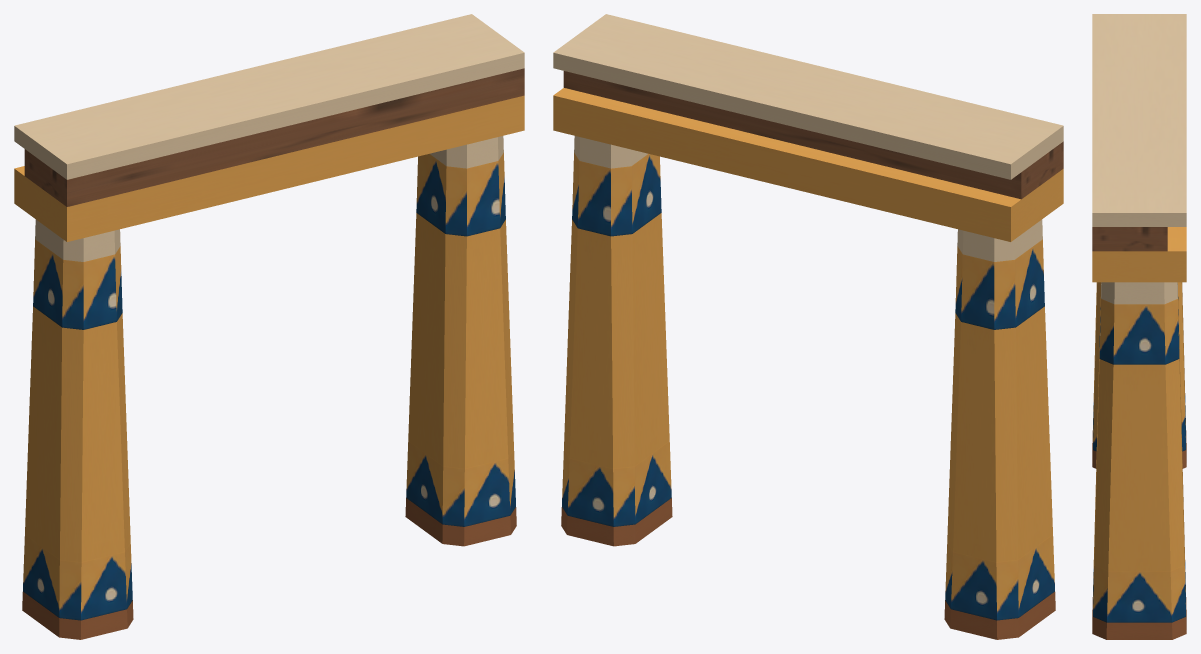
The model's file is rc_wa_veranda_opening_4x4.glb.
The picture shows the model from 3 angles, left to right: view 1: azimuth 30°, elevation 25°; view 2: azimuth 150°, elevation 25°; view 3: azimuth 270°, elevation 25°; orthographic projection. The views are drawn at different scales.
Parts seen in each view (by area): view 1: SM_RC_WA_VerandaOpening_4x4; view 2: SM_RC_WA_VerandaOpening_4x4; view 3: SM_RC_WA_VerandaOpening_4x4.
Boxes of the visible parts, box(x1,y1,x2,y2) form: SM_RC_WA_VerandaOpening_4x4: box(14, 14, 524, 639); SM_RC_WA_VerandaOpening_4x4: box(553, 14, 1063, 639); SM_RC_WA_VerandaOpening_4x4: box(1092, 14, 1186, 639).
Size of the model in its own units: 4 by 4 by 0.8.
1 material, 1 textured.
